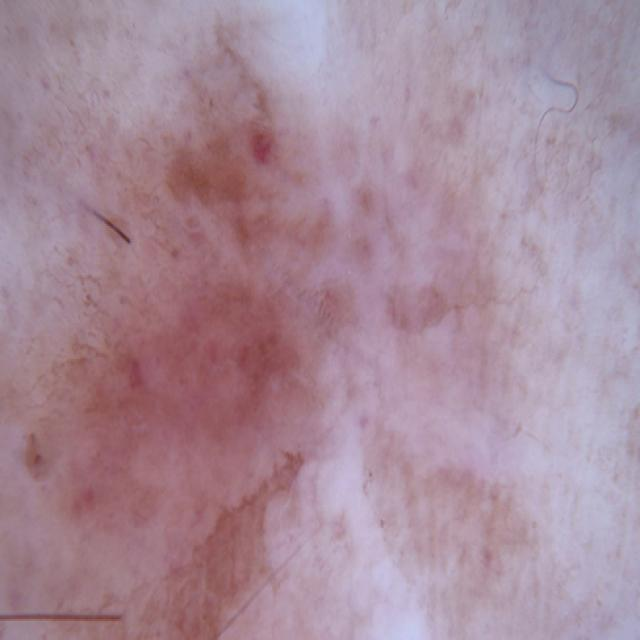Keratosis: (0, 234, 184, 486), (252, 410, 488, 596), (182, 108, 371, 332), (409, 265, 516, 397), (121, 526, 221, 640)
